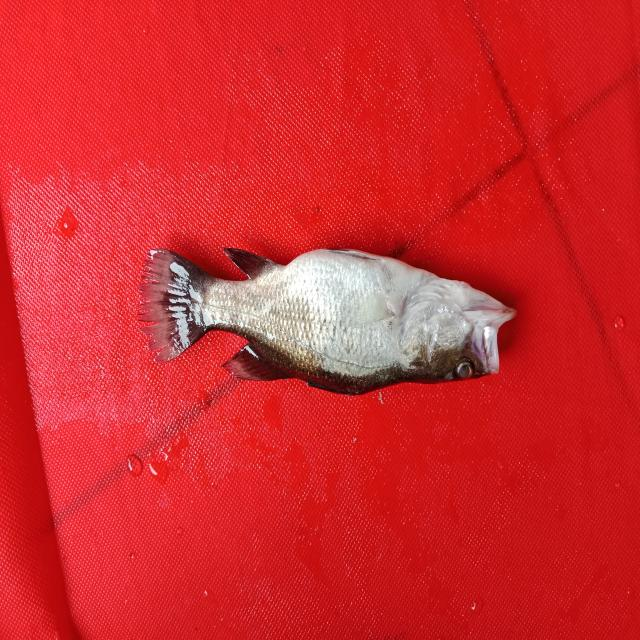ikan: (134, 188, 531, 405)
